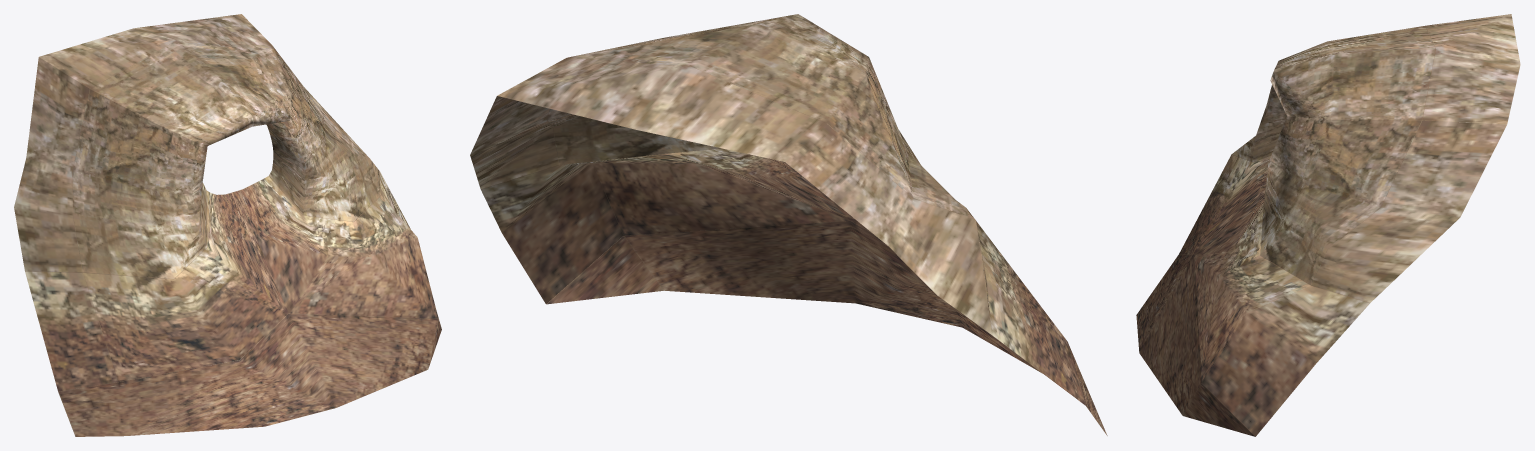
File: thm_tato_cave_s01_r0_mesh_l3.fbx
3 views of the same model, side by side, from view 1: azimuth 30°, elevation 25°; view 2: azimuth 150°, elevation 25°; view 3: azimuth 270°, elevation 25° (orthographic). The views are drawn at different scales.
Visible parts, largest first — view 1: mesh_node; view 2: mesh_node; view 3: mesh_node.
Boxes of the visible parts, bbox=[...] form: mesh_node: bbox=[14, 14, 441, 436]; mesh_node: bbox=[470, 14, 1107, 435]; mesh_node: bbox=[1136, 14, 1520, 436].
Bounding box in the file's own units: 48.32 × 33.74 × 39.28.
1 material, 1 textured.
